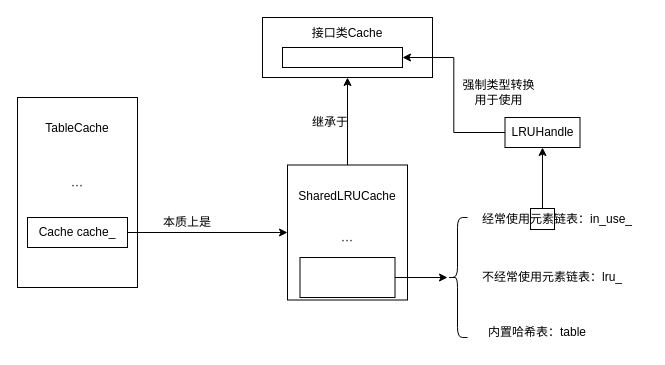
The diagram is 665 pixels wide and 365 high, and some of its shapes have lost their labels. The centre of each missing label's shape, as x and y in pixels:
"多个LRUCache" belongs at (347,277).
"空结构体Handle" belongs at (342,57).
